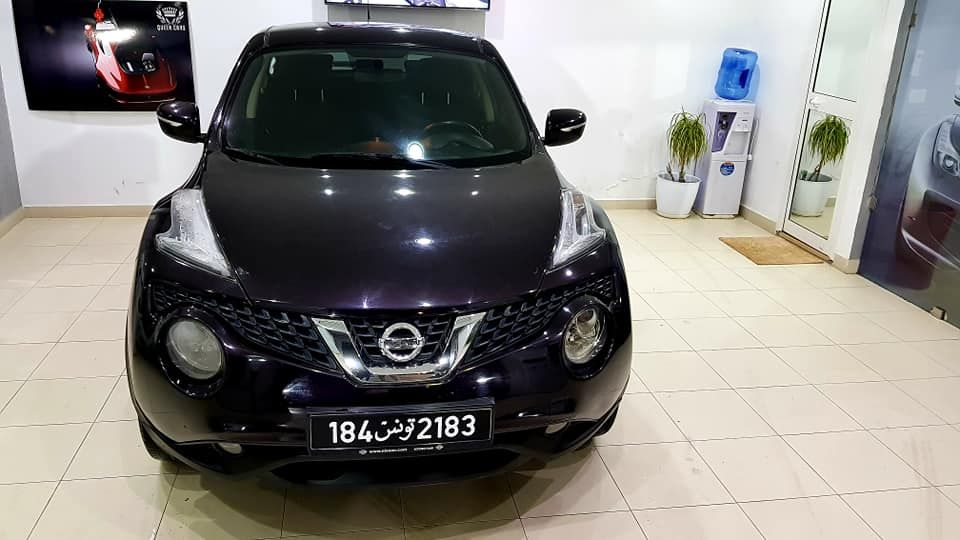LP: (308, 409, 490, 445)
